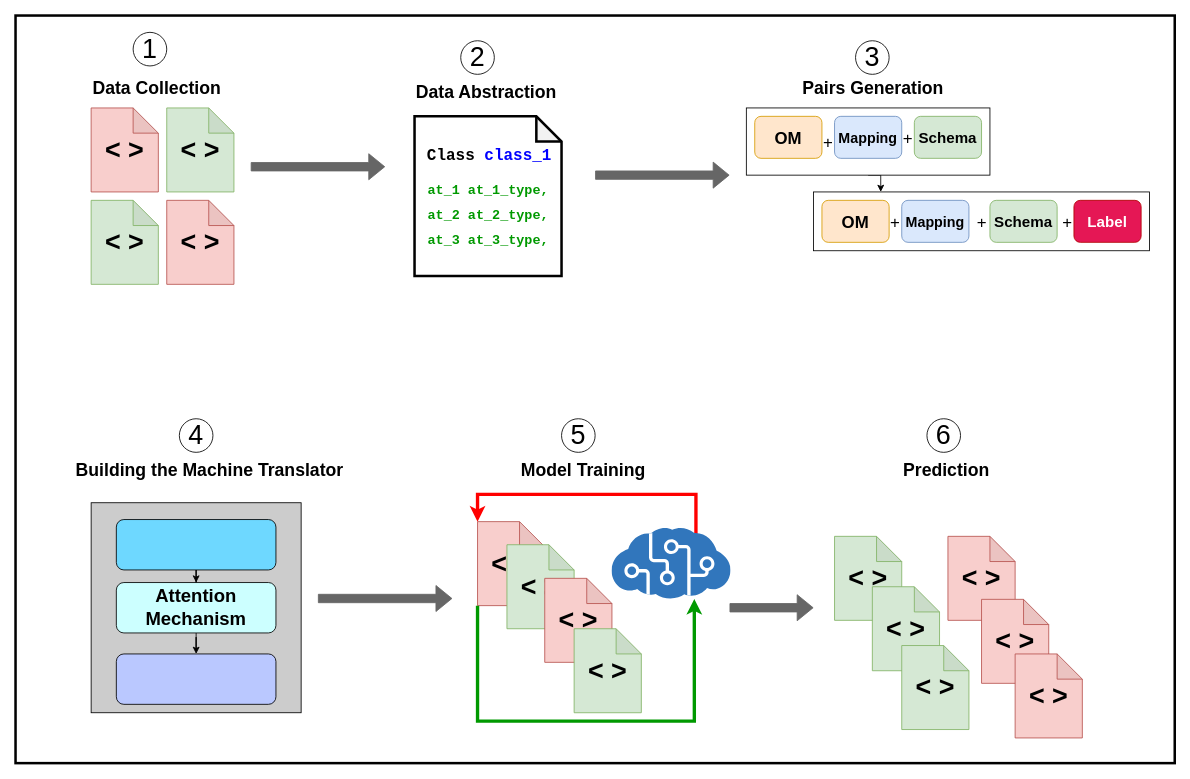
Some shapes in this 1190 by 779 pixel diagram are drawn without their labels. Each missing label, with the centre of its shape:
Decoder: pixel 196 678
Encoder: pixel 196 544
